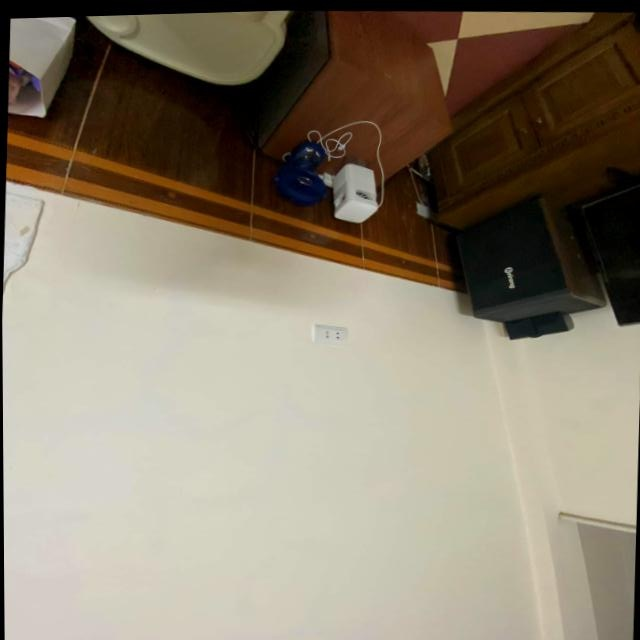outlet: (313, 323, 350, 344)
